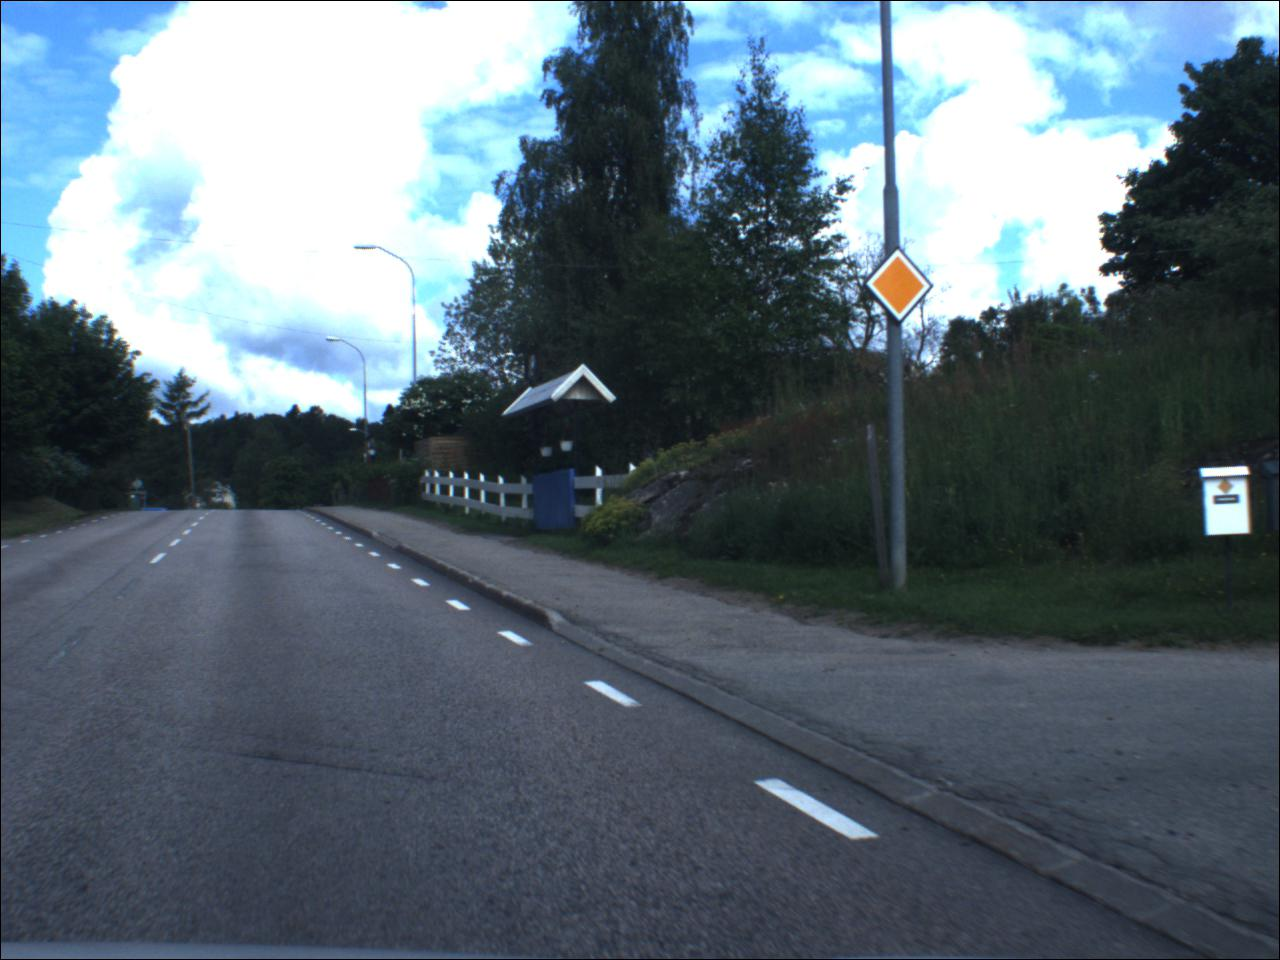PRIORITY_ROAD: (864, 243, 934, 327)
